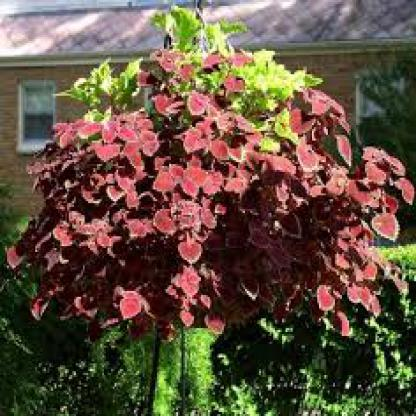Bunga Coleus: (52, 109, 385, 308)
